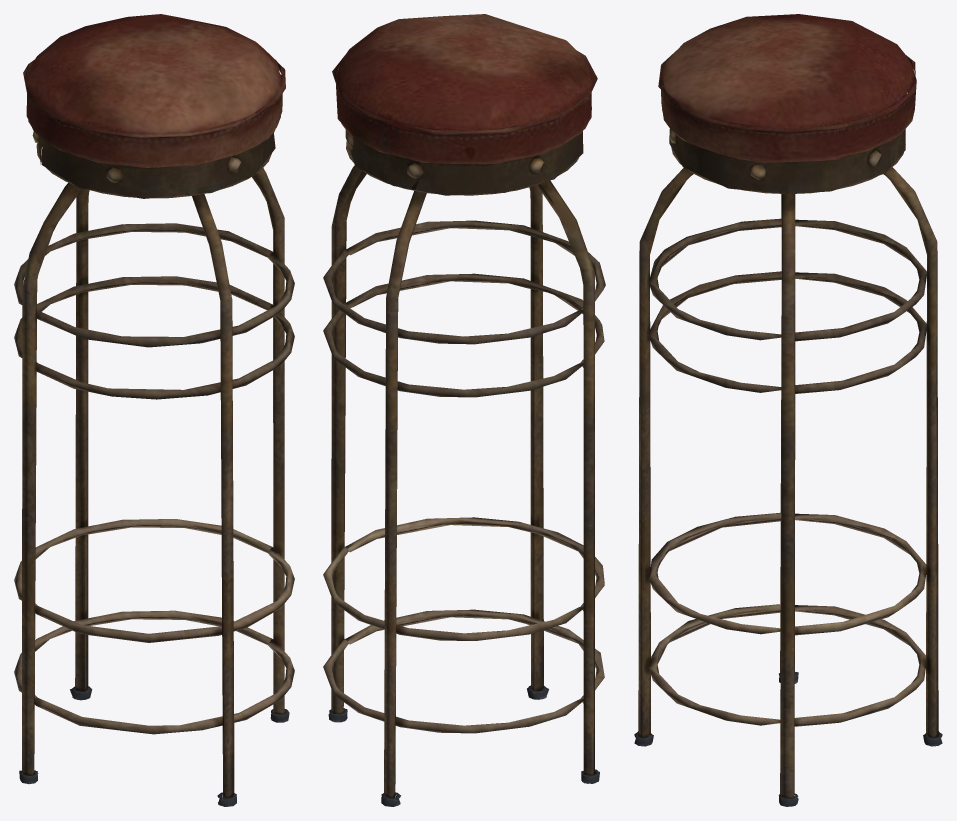
Rendered from isl_stool.glb.
3 views of the same model, side by side, from view 1: azimuth 30°, elevation 25°; view 2: azimuth 150°, elevation 25°; view 3: azimuth 270°, elevation 25° (orthographic).
Parts seen in each view (by area): view 1: metal_stool_01; view 2: metal_stool_01; view 3: metal_stool_01.
Part boxes in pixels (x1,y1,x2,y2): metal_stool_01: (14,14,294,806); metal_stool_01: (323,14,605,806); metal_stool_01: (634,14,942,806).
Size of the model in its own units: 0.352 by 0.8819 by 0.3545.
1 material, 1 textured.
